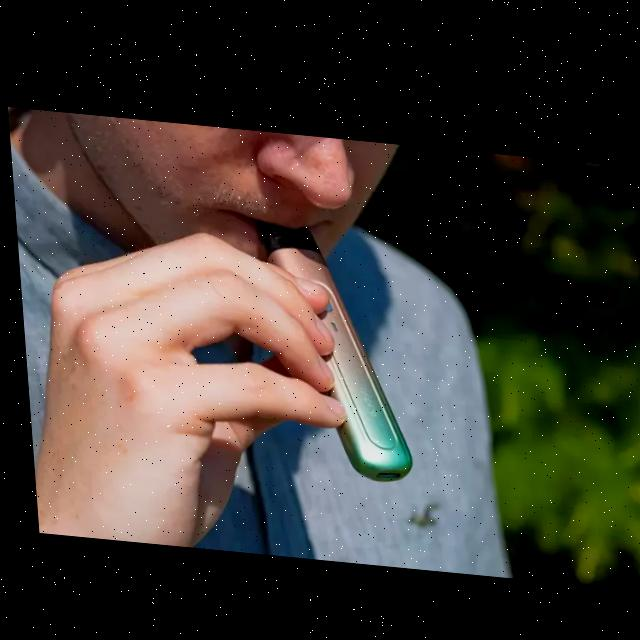vape: (250, 211, 409, 478)
